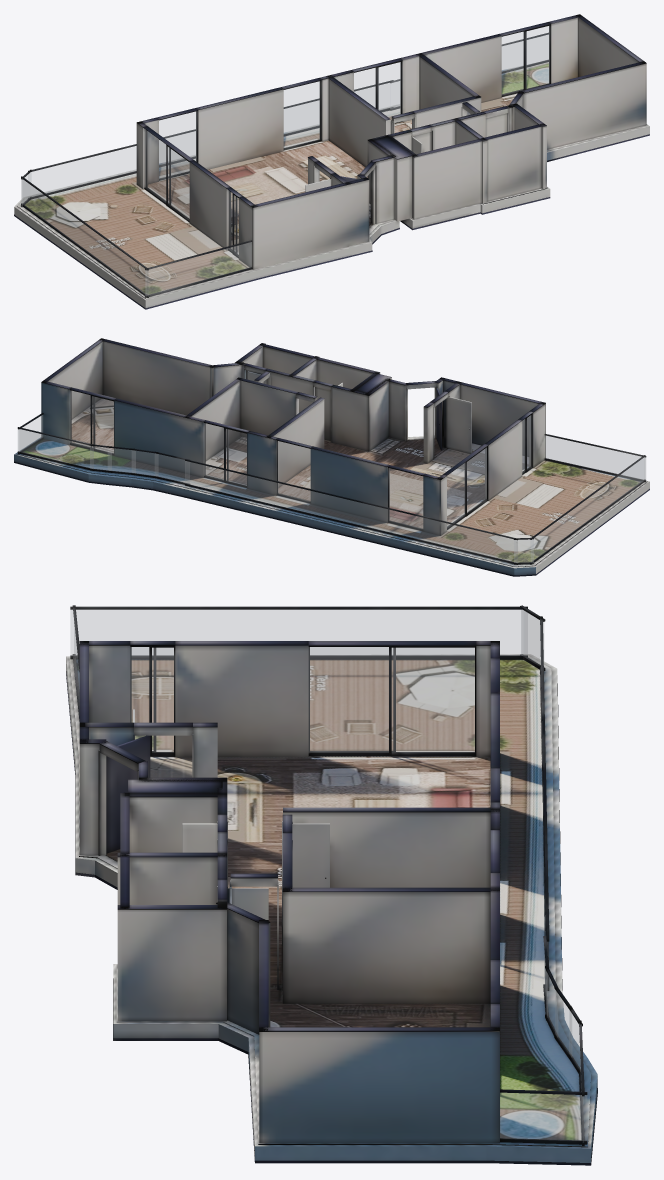
The picture shows the model from 3 angles, top to bottom: view 1: azimuth 30°, elevation 25°; view 2: azimuth 150°, elevation 25°; view 3: azimuth 270°, elevation 25°; orthographic projection. The views are drawn at different scales.
Parts seen in each view (by area): view 1: plan, railg1_m, railg9_m, railg8_m, glass4_m, glass0_m, glass2_m, glass1_m, glass3_m, railg6_m, glass5_m; view 2: plan, railg1_m, railg9_m, railg8_m, glass4_m, glass3_m, glass0_m, railg6_m, glass1_m, glass2_m, railg2_m, railg4_m (+5 smaller); view 3: plan, glass0_m, railg9_m, railg7_m, glass5_m, railg0_m.
Part boxes in pixels (x1,y1,x2,y2): plan: (14,14,649,309); railg1_m: (28,83,389,196); railg9_m: (21,180,148,295); railg8_m: (145,242,251,295); glass4_m: (502,26,549,94); glass0_m: (145,129,189,218); glass2_m: (284,81,319,147); glass1_m: (159,111,196,178); glass3_m: (354,62,400,119); railg6_m: (502,35,548,71); glass5_m: (229,191,238,254); plan: (14,338,649,576); railg1_m: (185,461,517,562); railg9_m: (531,457,644,562); railg8_m: (545,435,645,479); glass4_m: (70,391,113,452); glass3_m: (204,423,246,485); glass0_m: (447,448,486,527); railg6_m: (18,429,93,468); glass1_m: (389,468,422,528); glass2_m: (278,441,310,500); railg2_m: (155,453,189,483); railg4_m: (108,448,135,472); plan: (66,605,597,1165); glass0_m: (309,647,474,752); railg9_m: (70,610,527,655); railg7_m: (500,1093,586,1140); glass5_m: (130,647,173,752); railg0_m: (521,610,543,665).
Size of the model in its own units: 21.39 by 2.62 by 9.72.
2 materials, 1 textured.
